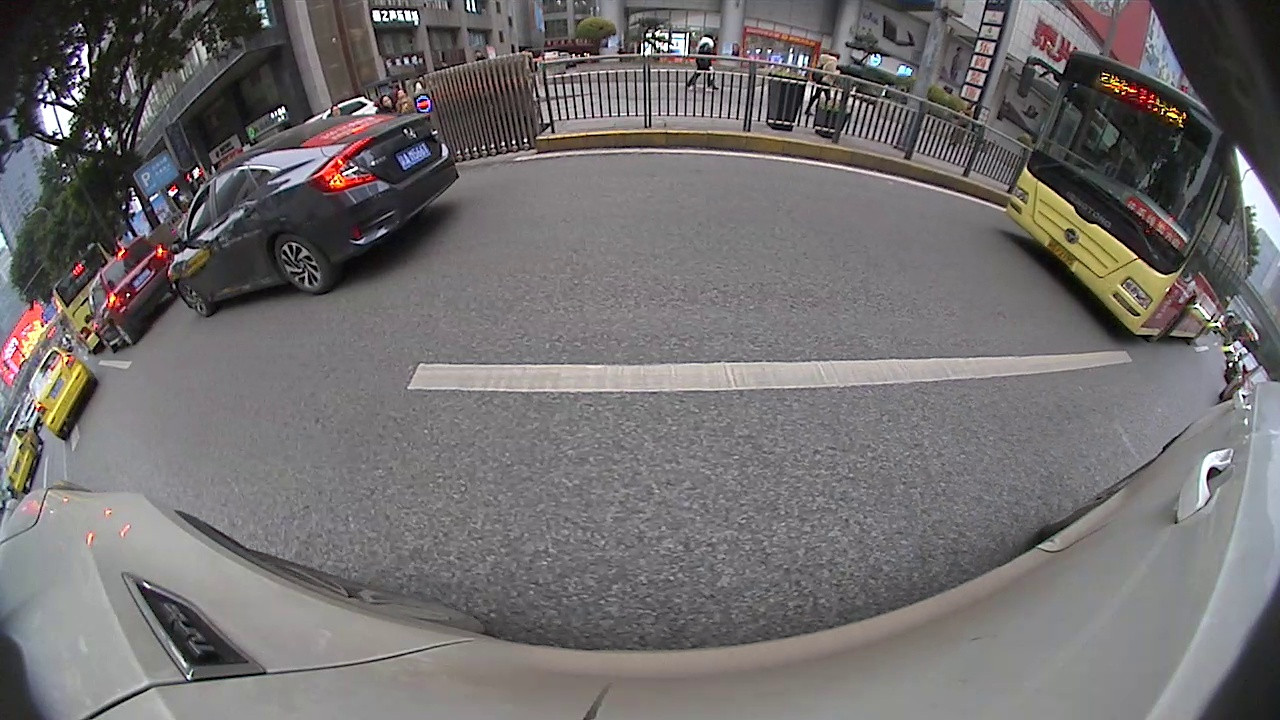bus: (1004, 48, 1250, 346), (52, 239, 110, 347)
car: (167, 112, 459, 318), (92, 235, 175, 353), (25, 345, 98, 441), (1, 425, 42, 497), (298, 98, 389, 126), (1218, 363, 1274, 404), (1224, 350, 1258, 385)
front: (176, 287, 217, 320)
person: (820, 48, 837, 109), (698, 28, 714, 84)
rear: (271, 236, 338, 296)
